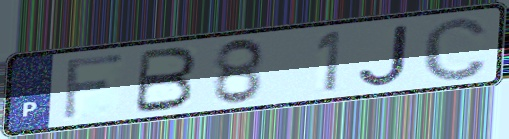1: (313, 28, 344, 94)
8: (209, 36, 269, 108)
B: (131, 45, 201, 116)
C: (420, 14, 491, 83)
F: (59, 50, 128, 123)
J: (356, 22, 412, 88)
